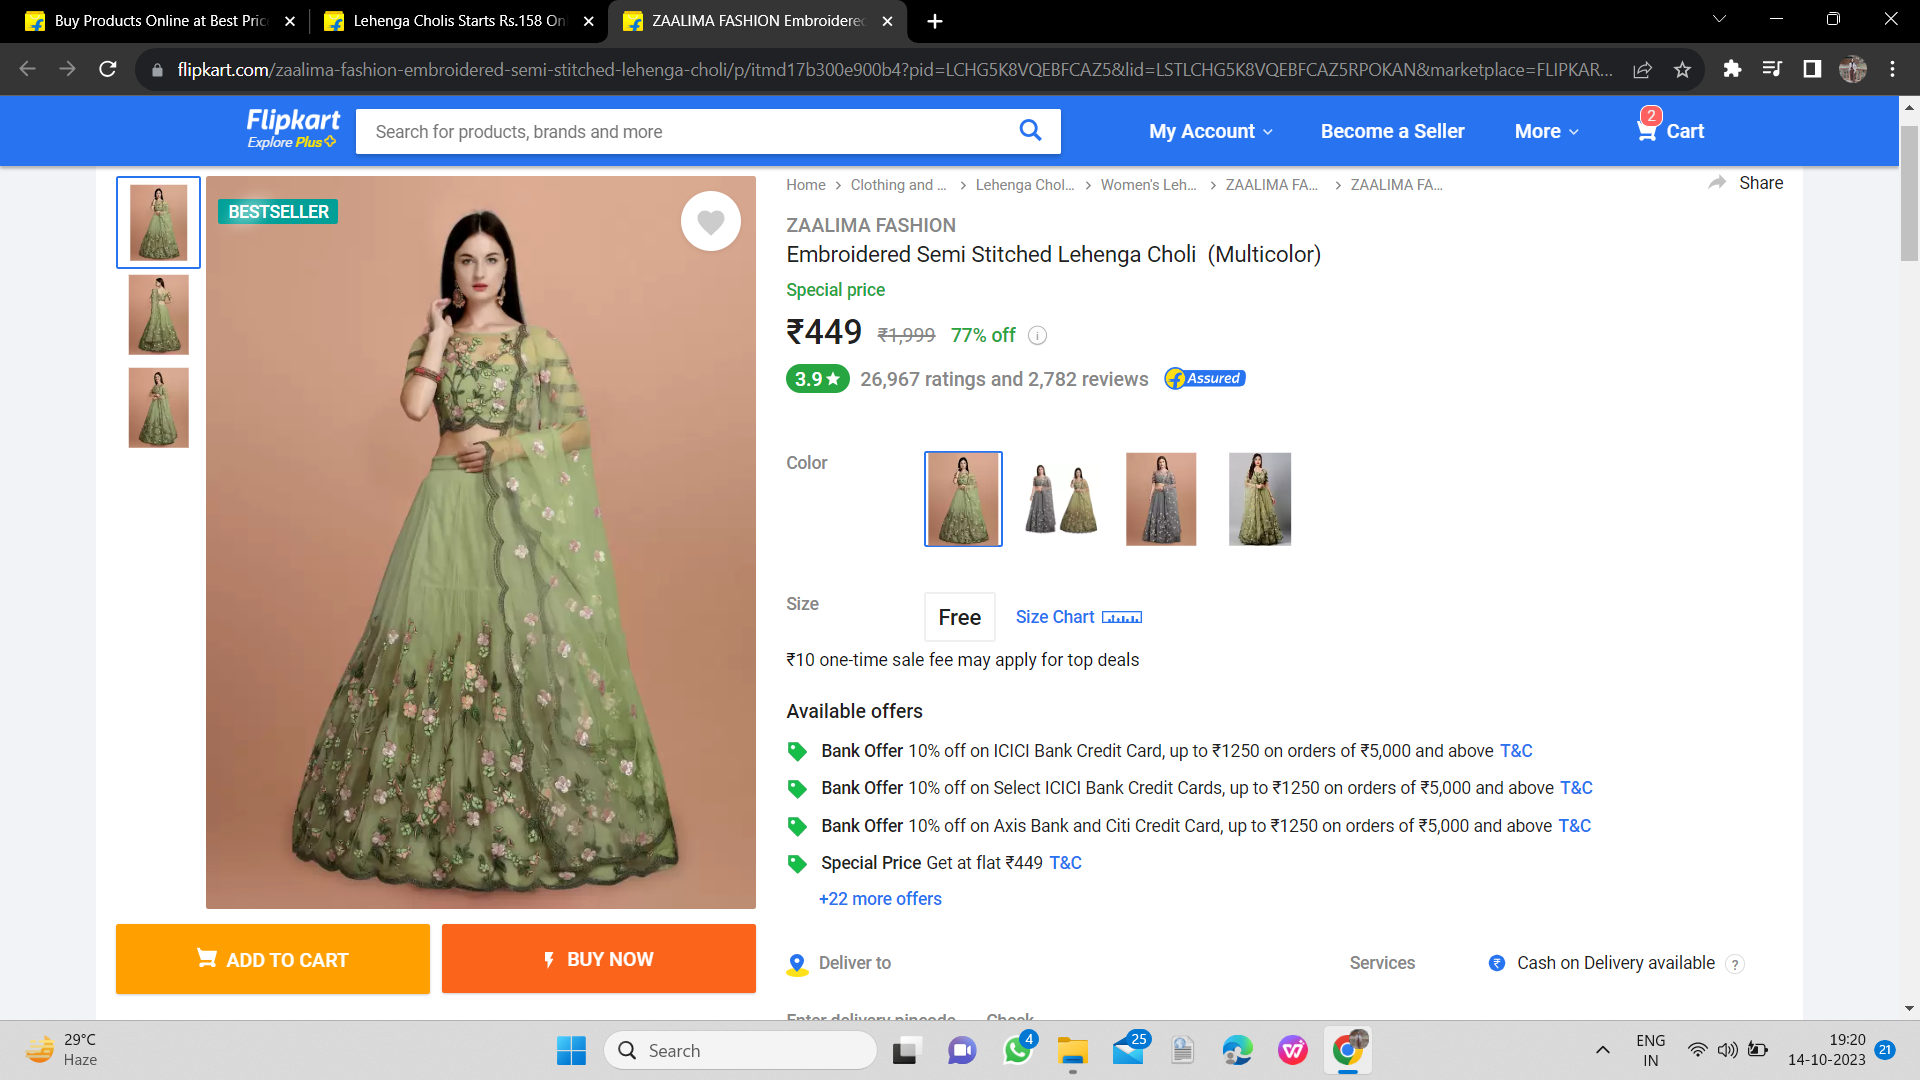Image: (210, 179, 757, 893), (885, 440, 1316, 566)
Paragraph: (766, 732, 1611, 919), (109, 910, 757, 1005), (1109, 91, 1726, 153), (770, 210, 1331, 276), (773, 353, 1258, 407), (774, 281, 1031, 349), (903, 584, 1180, 641), (1337, 947, 1727, 980), (770, 641, 1141, 673), (781, 696, 932, 723), (779, 444, 832, 472), (777, 589, 827, 613)
